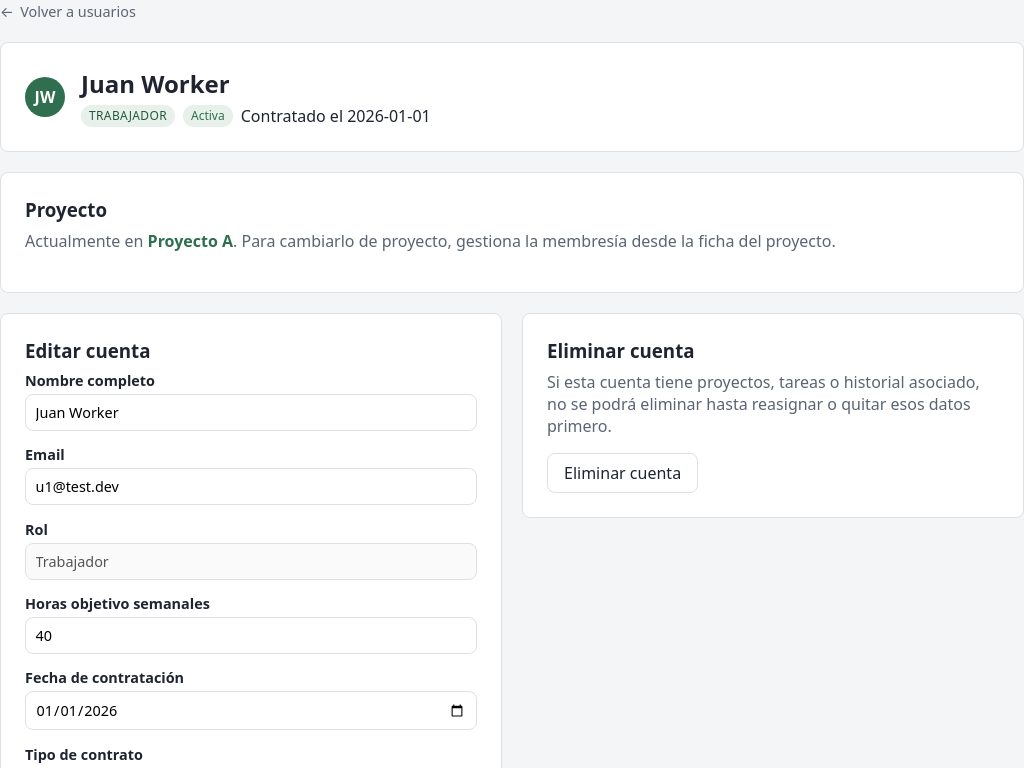
Test case: AdminUserDetail › muestra un error si falla la eliminación de la cuenta
Check: the heading "Juan Worker" is shown, box [81, 67, 230, 100]
Click the button "Eliminar cuenta": {"x": 623, "y": 473} [547, 453, 698, 493]
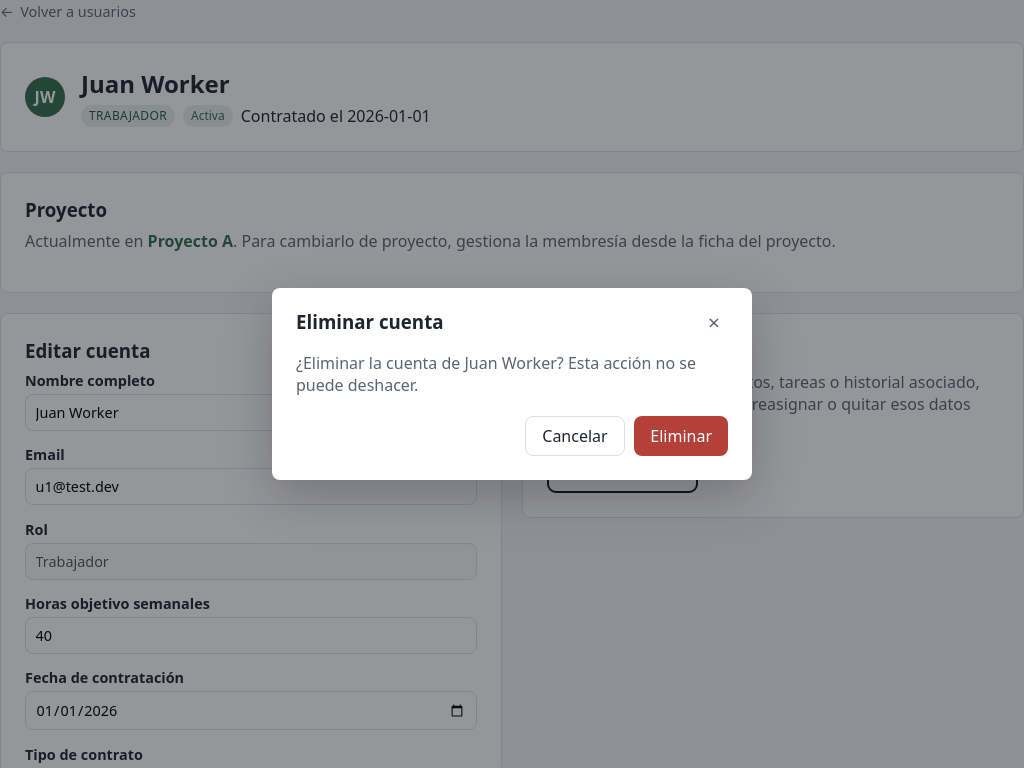
Click the button "Eliminar": {"x": 681, "y": 436} [634, 416, 728, 456]
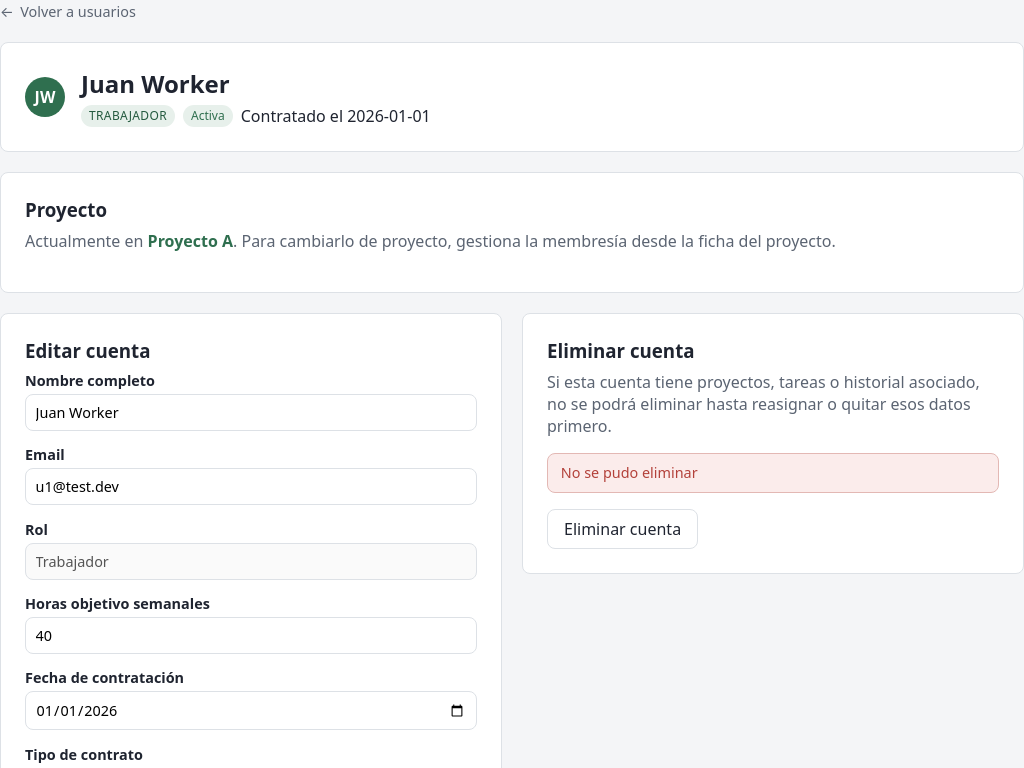
Check: the text "No se pudo eliminar" is shown, box [547, 453, 999, 493]
